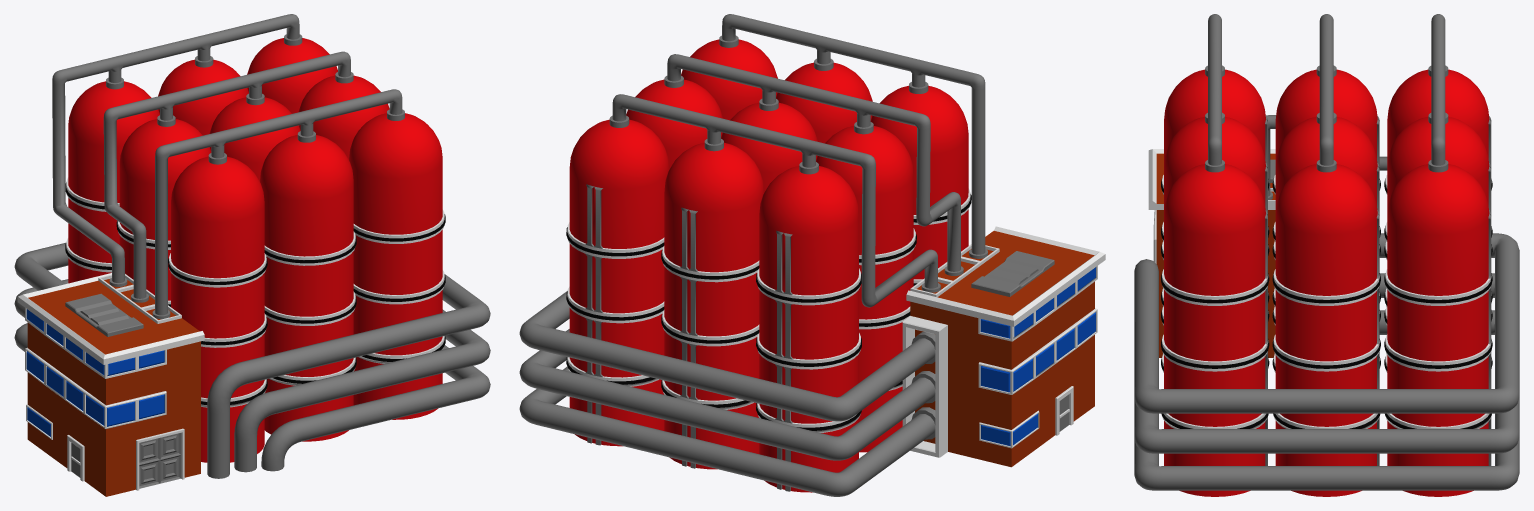
File: FábricaFinal.fbx
3 views of the same model, side by side, from view 1: azimuth 30°, elevation 25°; view 2: azimuth 150°, elevation 25°; view 3: azimuth 270°, elevation 25° (orthographic). The views are drawn at different scales.
Parts seen in each view (by area): view 1: Centro2, Centro3, Centro1; view 2: Centro2, Centro1, Centro3; view 3: Centro2, Centro1, Centro3.
Boxes of the visible parts, left/top/right/bottom form: Centro2: left=52, top=14, right=445, bottom=462; Centro3: left=17, top=273, right=204, bottom=496; Centro1: left=14, top=242, right=490, bottom=478; Centro2: left=566, top=14, right=987, bottom=492; Centro1: left=519, top=291, right=935, bottom=496; Centro3: left=902, top=226, right=1105, bottom=467; Centro2: left=1161, top=14, right=1492, bottom=496; Centro1: left=1134, top=233, right=1519, bottom=490; Centro3: left=1148, top=149, right=1275, bottom=357.
Size of the model in its own units: 2859 by 2231 by 2269.
